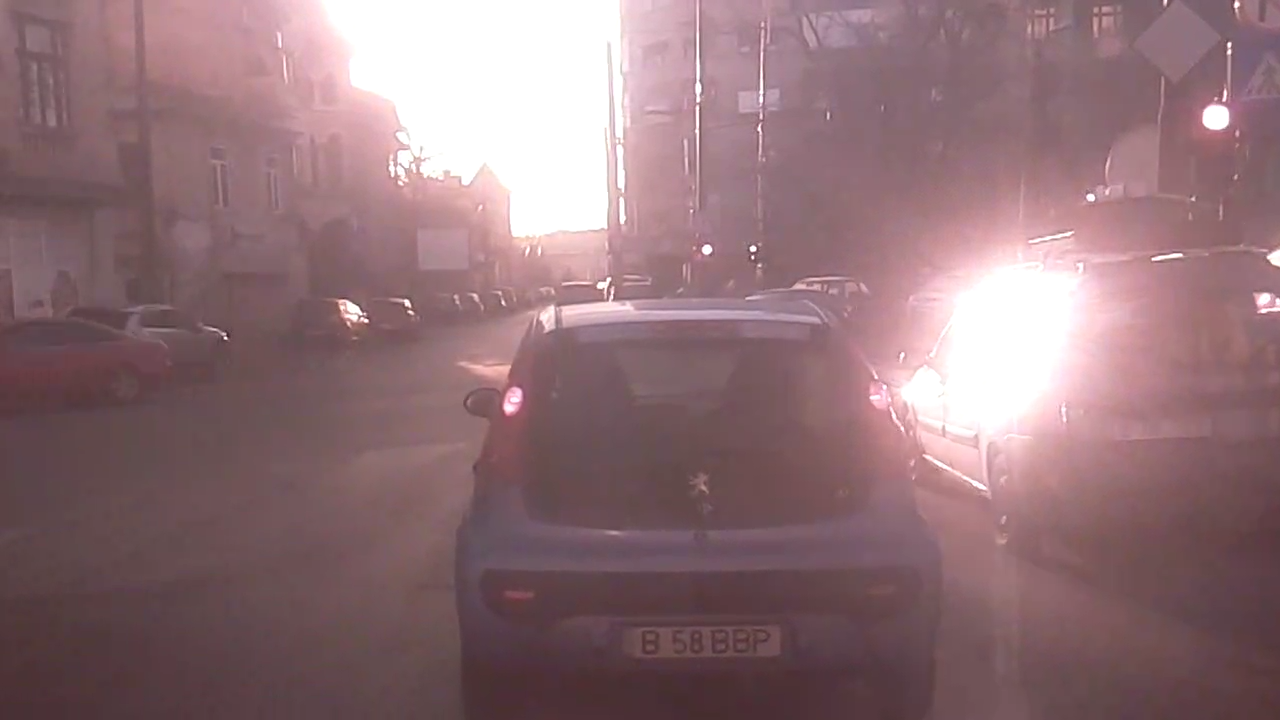license-plate: (619, 620, 787, 661)
